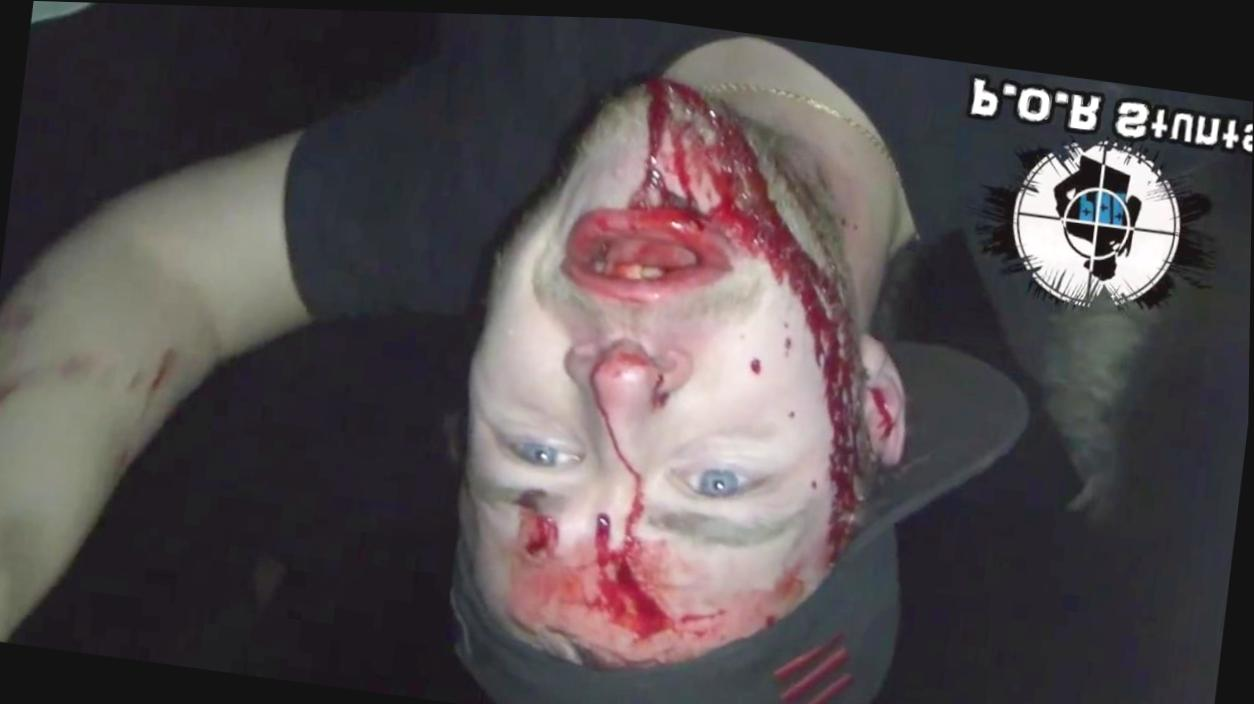Fire: (470, 74, 908, 661)
